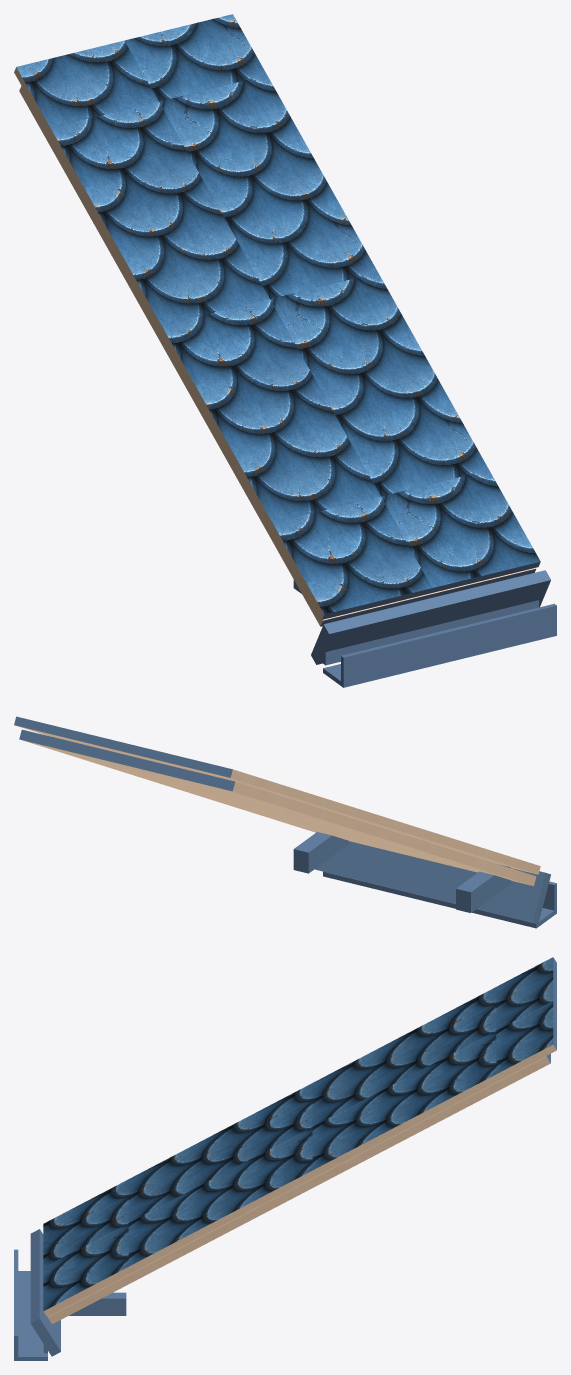
File: Roof_Panel_1m.fbx
3 renders of one model, top to bottom at view 1: azimuth 30°, elevation 25°; view 2: azimuth 150°, elevation 25°; view 3: azimuth 270°, elevation 25°, orthographic. The views are drawn at different scales.
Visible parts, largest first — view 1: Roof_Panel_1m; view 2: Roof_Panel_1m; view 3: Roof_Panel_1m.
Boxes of the visible parts, x1,y1,x2,y2 form: Roof_Panel_1m: [14, 14, 556, 687]; Roof_Panel_1m: [14, 716, 556, 928]; Roof_Panel_1m: [14, 957, 556, 1360].
Size of the model in its own units: 1 by 1.65 by 2.56.
2 materials, 2 textured.
